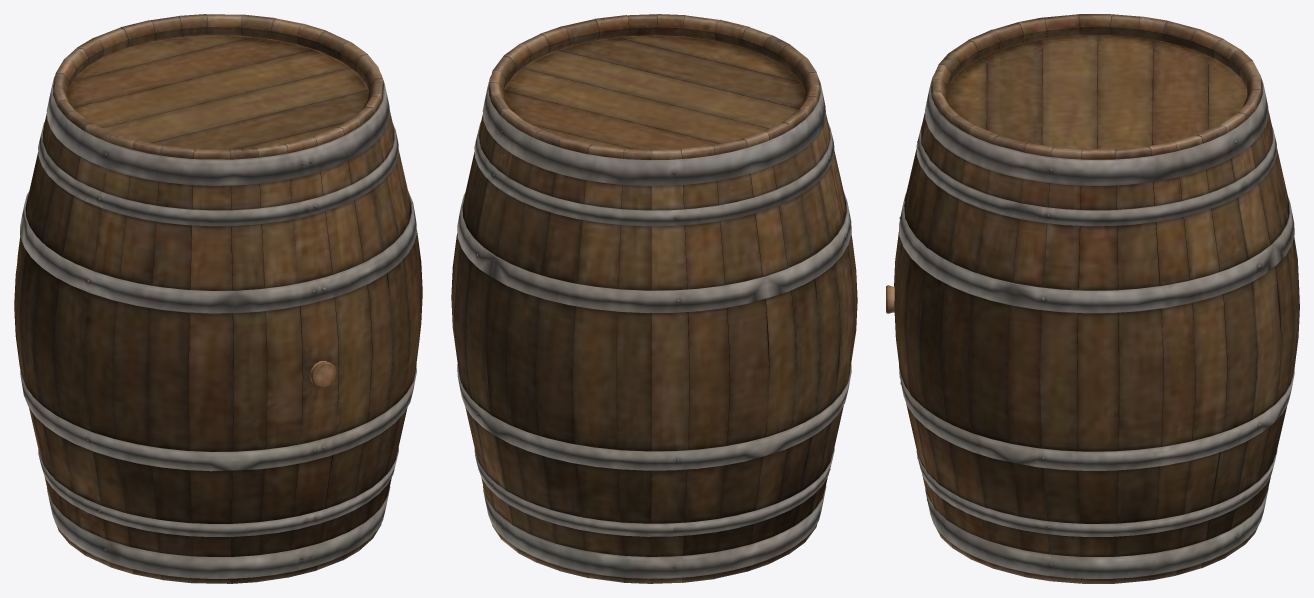
File: wine_barrel_01.glb
3 renders of one model, left to right at view 1: azimuth 30°, elevation 25°; view 2: azimuth 150°, elevation 25°; view 3: azimuth 270°, elevation 25°, orthographic.
Visible parts, largest first — view 1: wine_barrel_01, wine_barrel_01_Lid, wine_barrel_01_bung; view 2: wine_barrel_01, wine_barrel_01_Lid; view 3: wine_barrel_01, wine_barrel_01_Lid.
Part boxes in pixels (x1,y1,x2,y2): wine_barrel_01: (14,14,422,583); wine_barrel_01_Lid: (67,35,368,149); wine_barrel_01_bung: (310,361,336,388); wine_barrel_01: (451,14,857,583); wine_barrel_01_Lid: (503,35,805,152); wine_barrel_01: (894,14,1299,583); wine_barrel_01_Lid: (946,35,1247,149).
Size of the model in its own units: 0.7419 by 0.8695 by 0.7561.
1 material, 1 textured.
